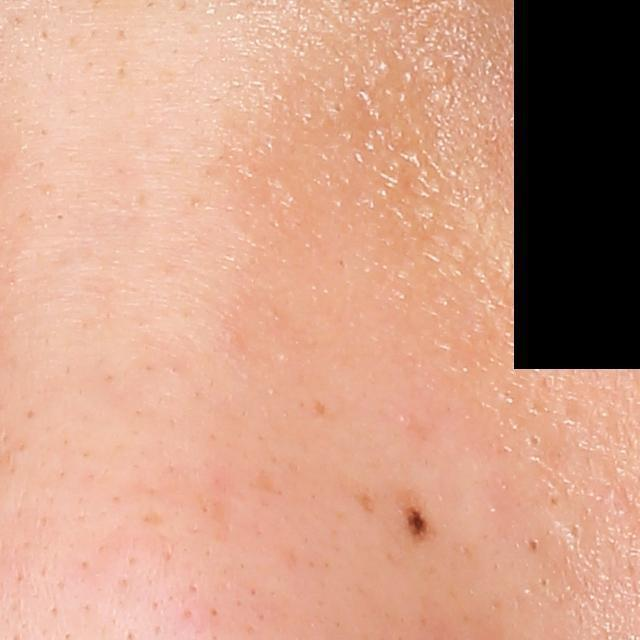comedo: (518, 426, 551, 457), (561, 516, 590, 548), (519, 532, 550, 561)
nevus: (393, 490, 435, 546)
